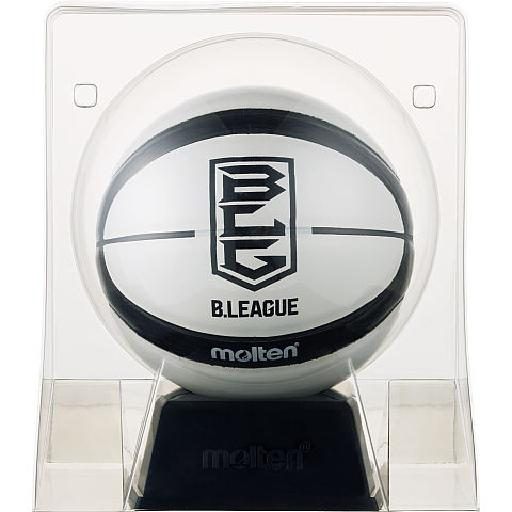ball: (97, 86, 415, 398)
